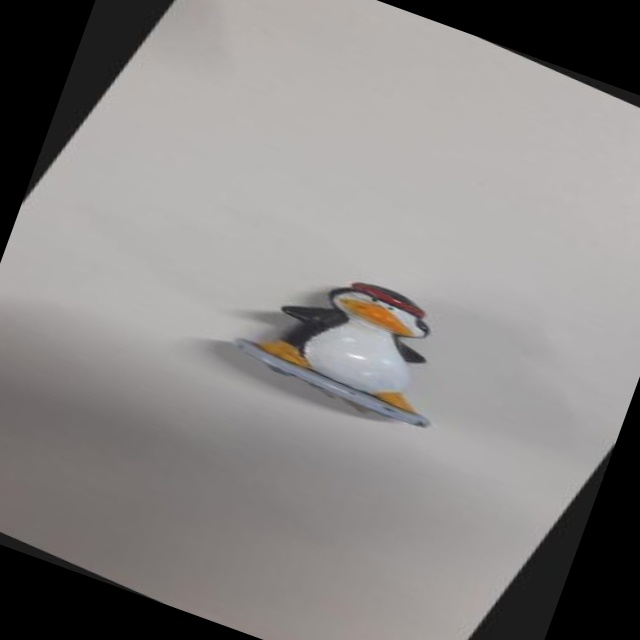Penguin: (188, 191, 548, 478)
